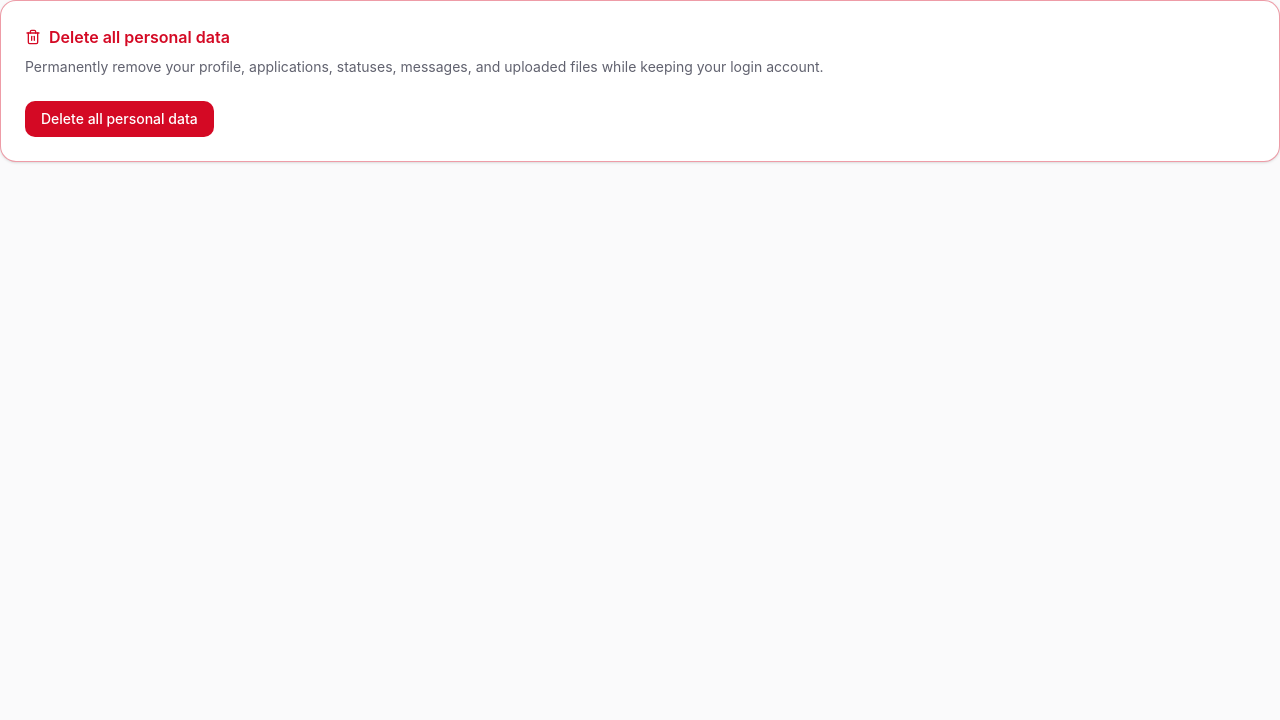
Test: DeletePersonalDataCard › requires the exact confirmation phrase
Click the button "Delete all personal data" at (119, 119), box [25,101,214,137]
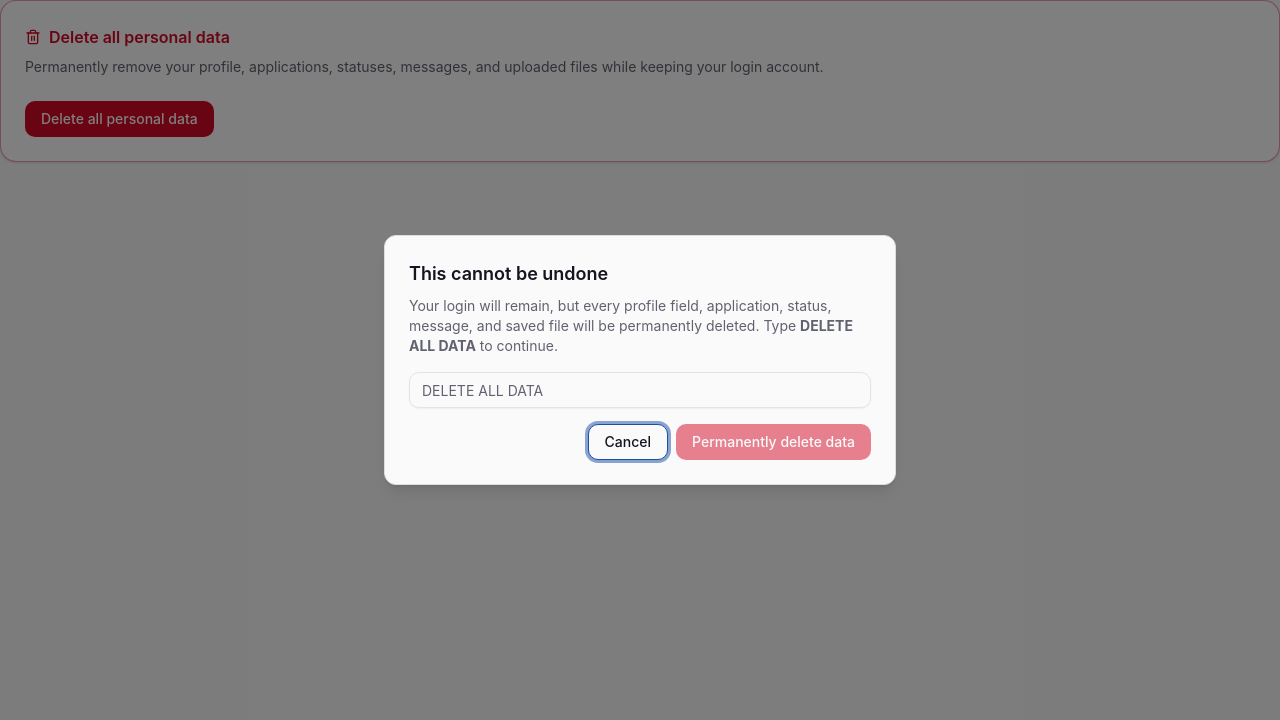
Now the button "Permanently delete data" is disabled, box [676,424,871,460]
Type "delete all data" into the field named "type delete all data to confirm" at (640, 390), box [409,372,871,408]
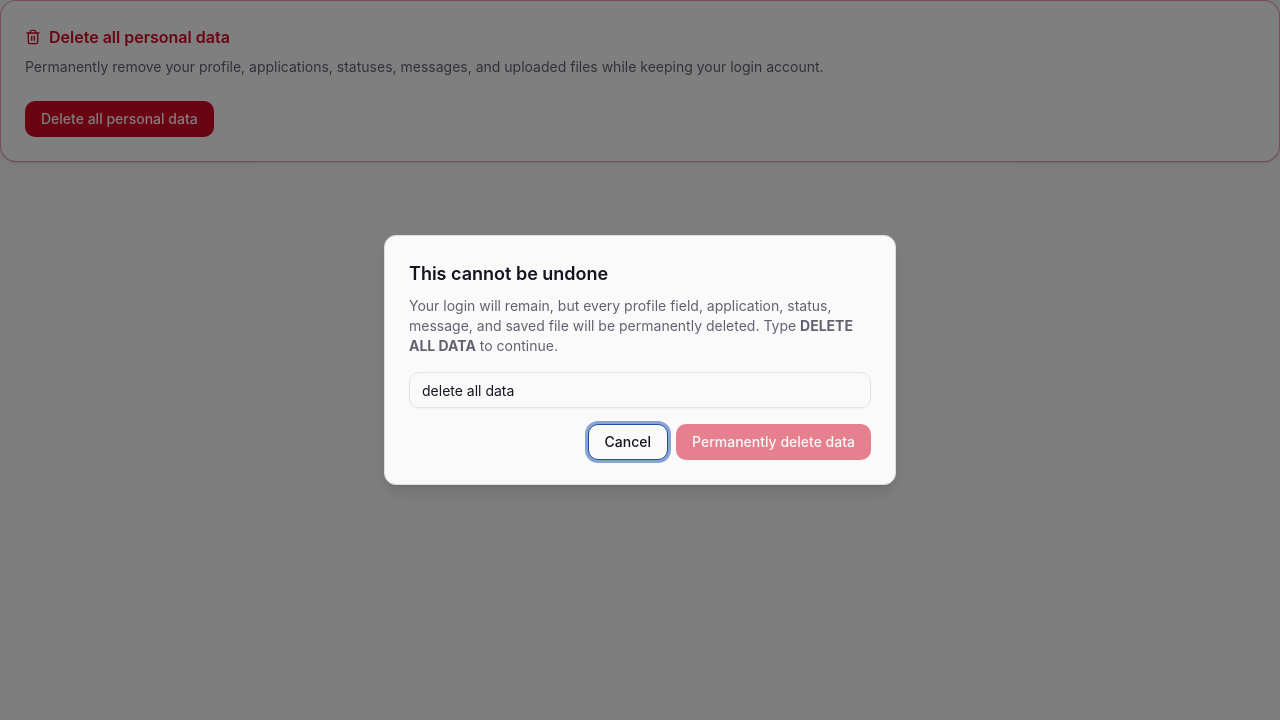
Now the button "Permanently delete data" is disabled, box [676,424,871,460]
Replace the text in the field named "type delete all data to confirm" with "DELETE ALL DATA" at (640, 390), box [409,372,871,408]
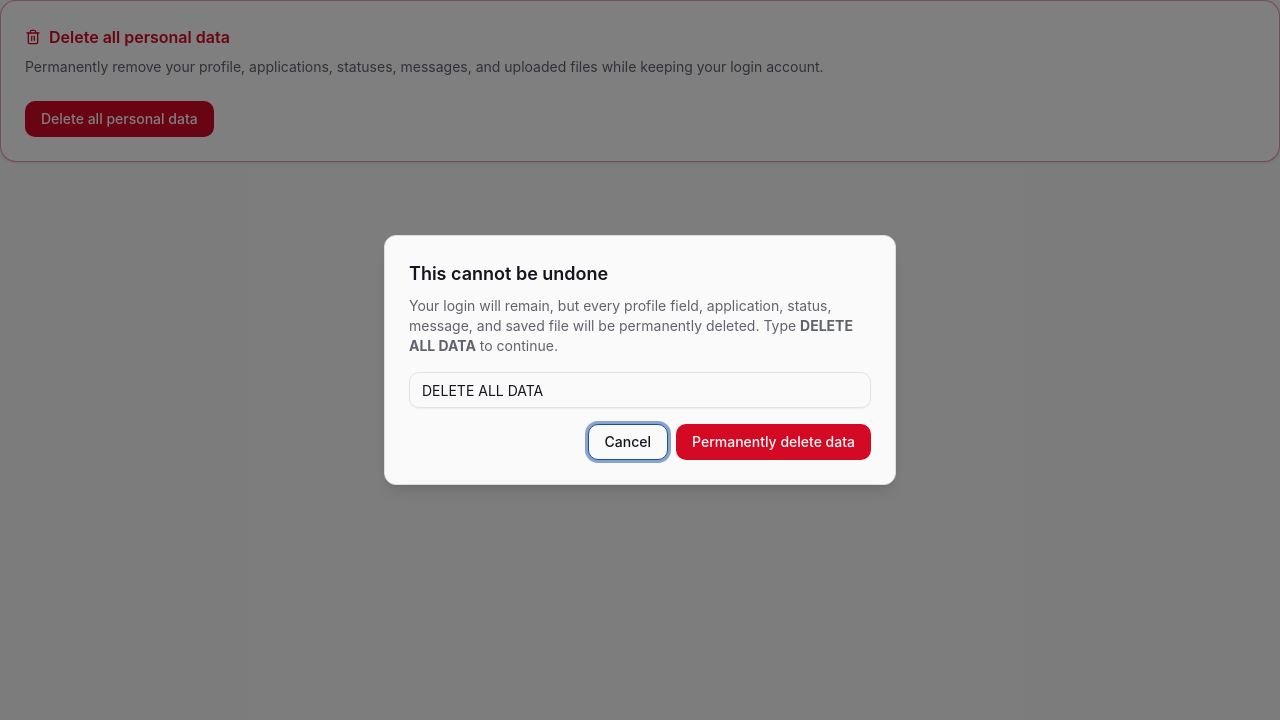
Now the button "Permanently delete data" is enabled, box [676,424,871,460]
